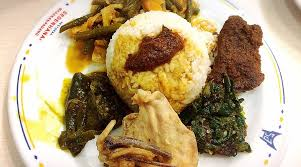Nasi padang: (61, 5, 266, 165)
